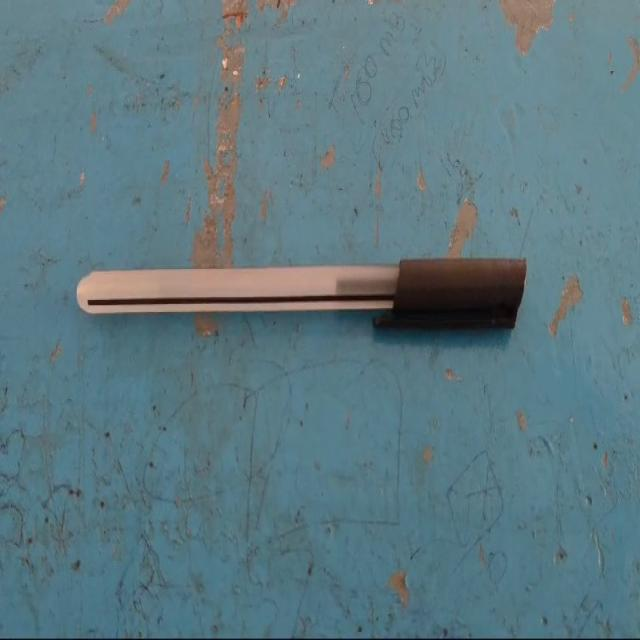pen: (61, 182, 548, 418)
